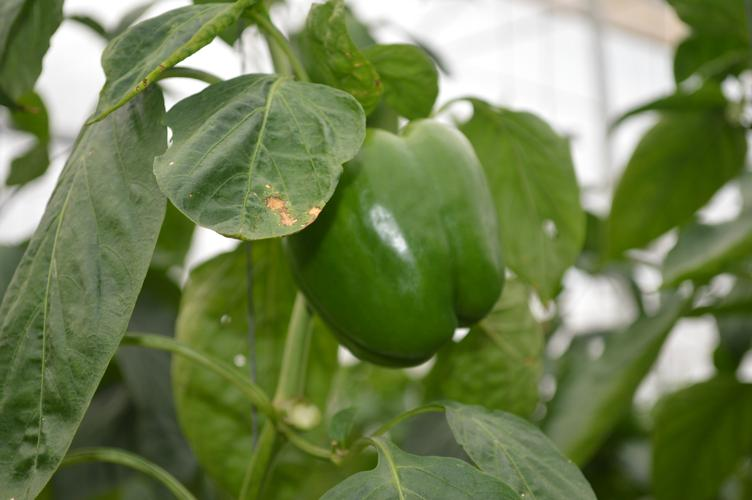BellPepper: (269, 119, 500, 360)
